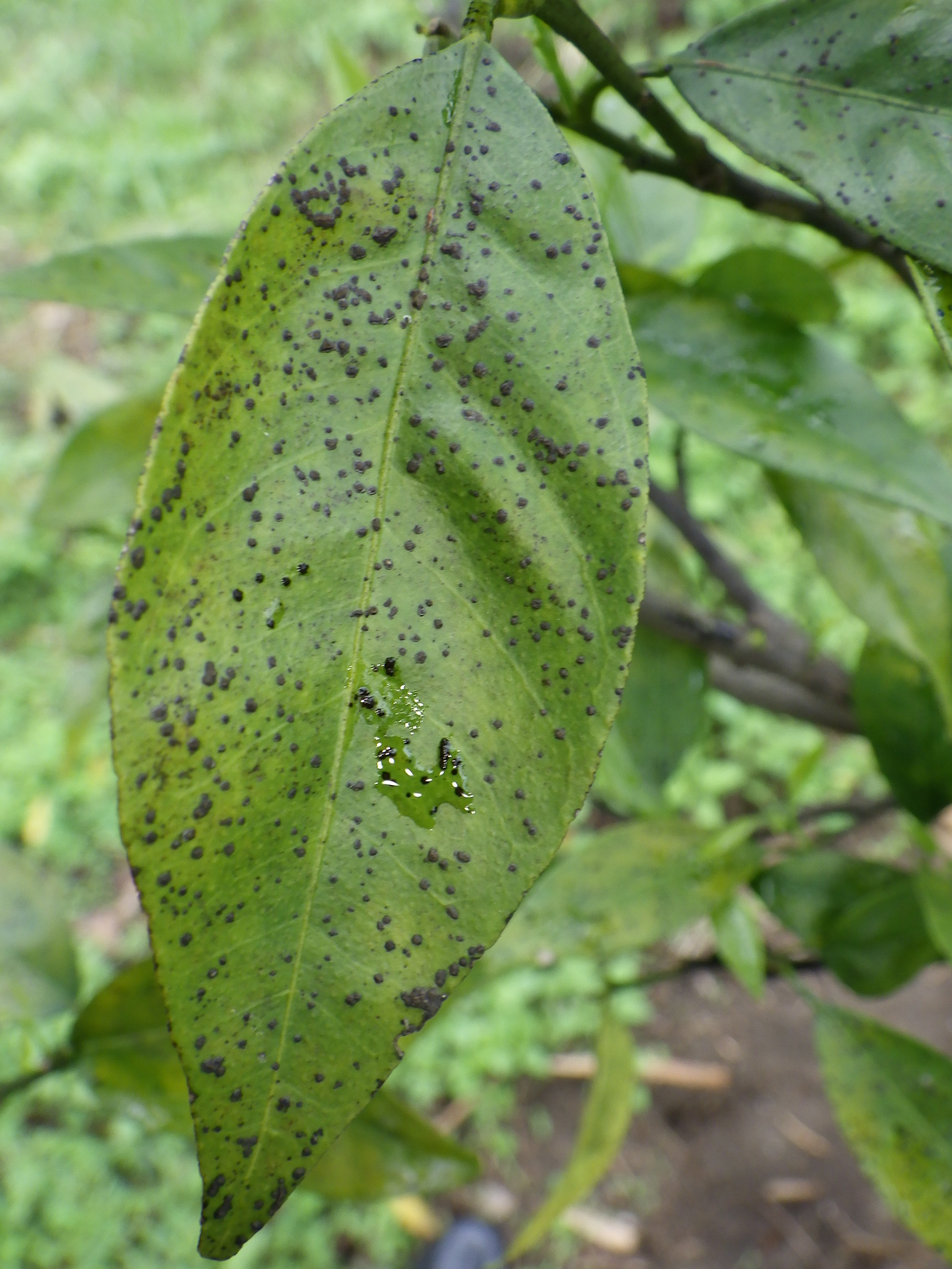Oily_Spot: (109, 0, 648, 1258)
